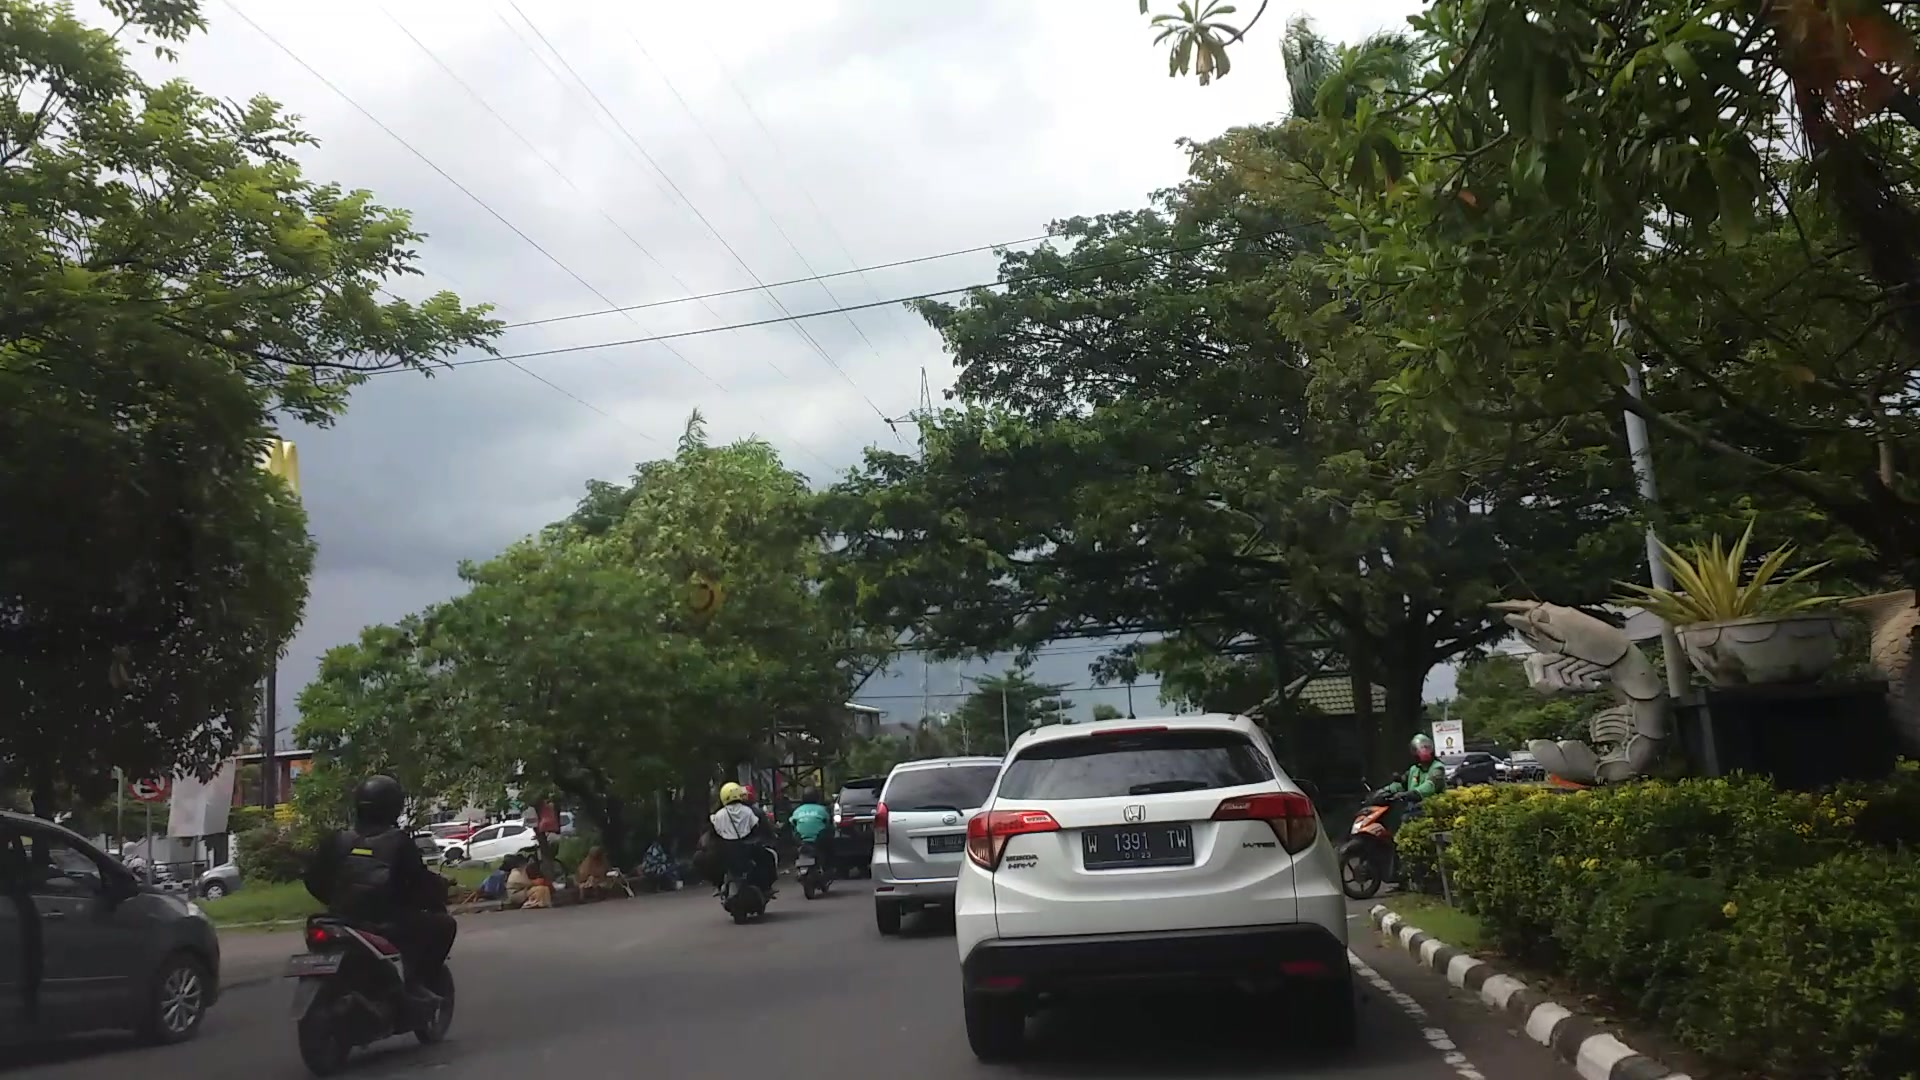plate_positive: (1083, 825, 1195, 869)
